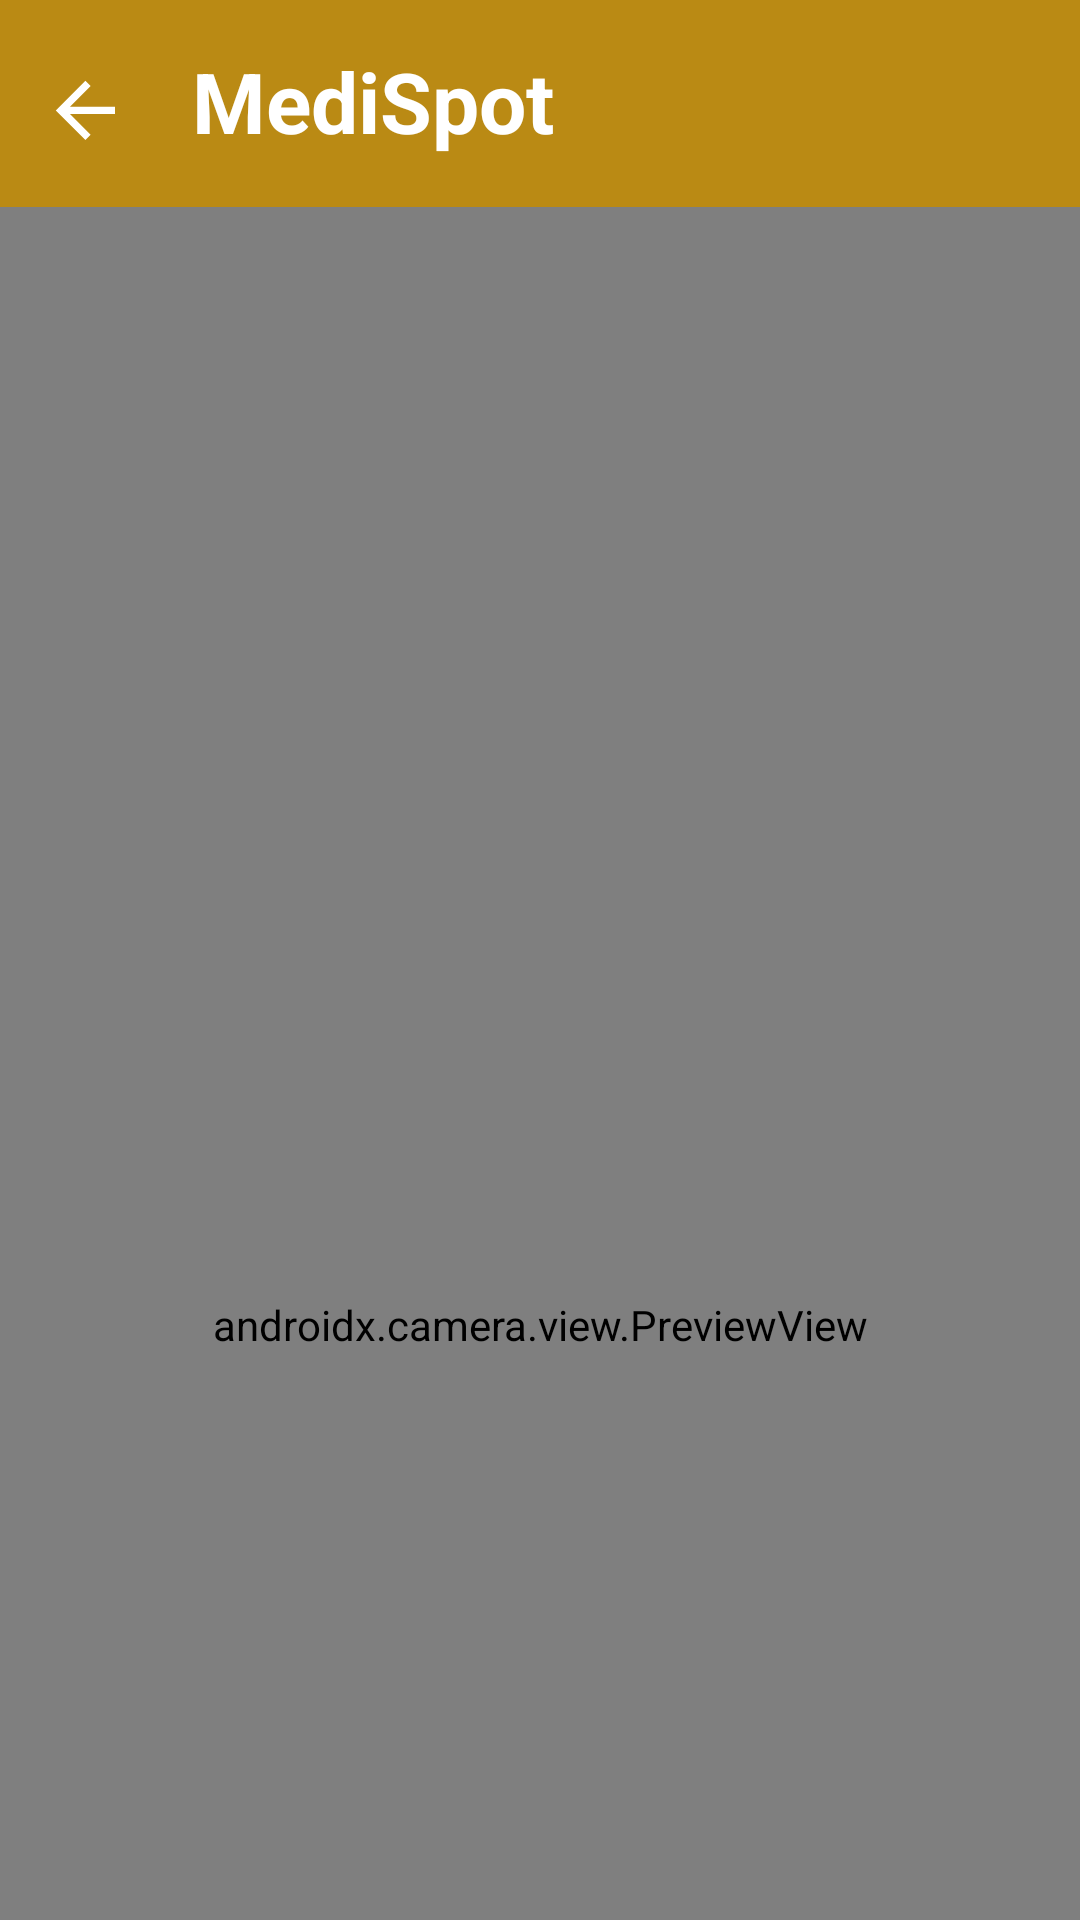

Locate icon controls on the screen. Image size 1080px x 1920px, boxes as BBox(x1, y1, x2, y2).
arrow back: BBox(56, 81, 115, 140)
